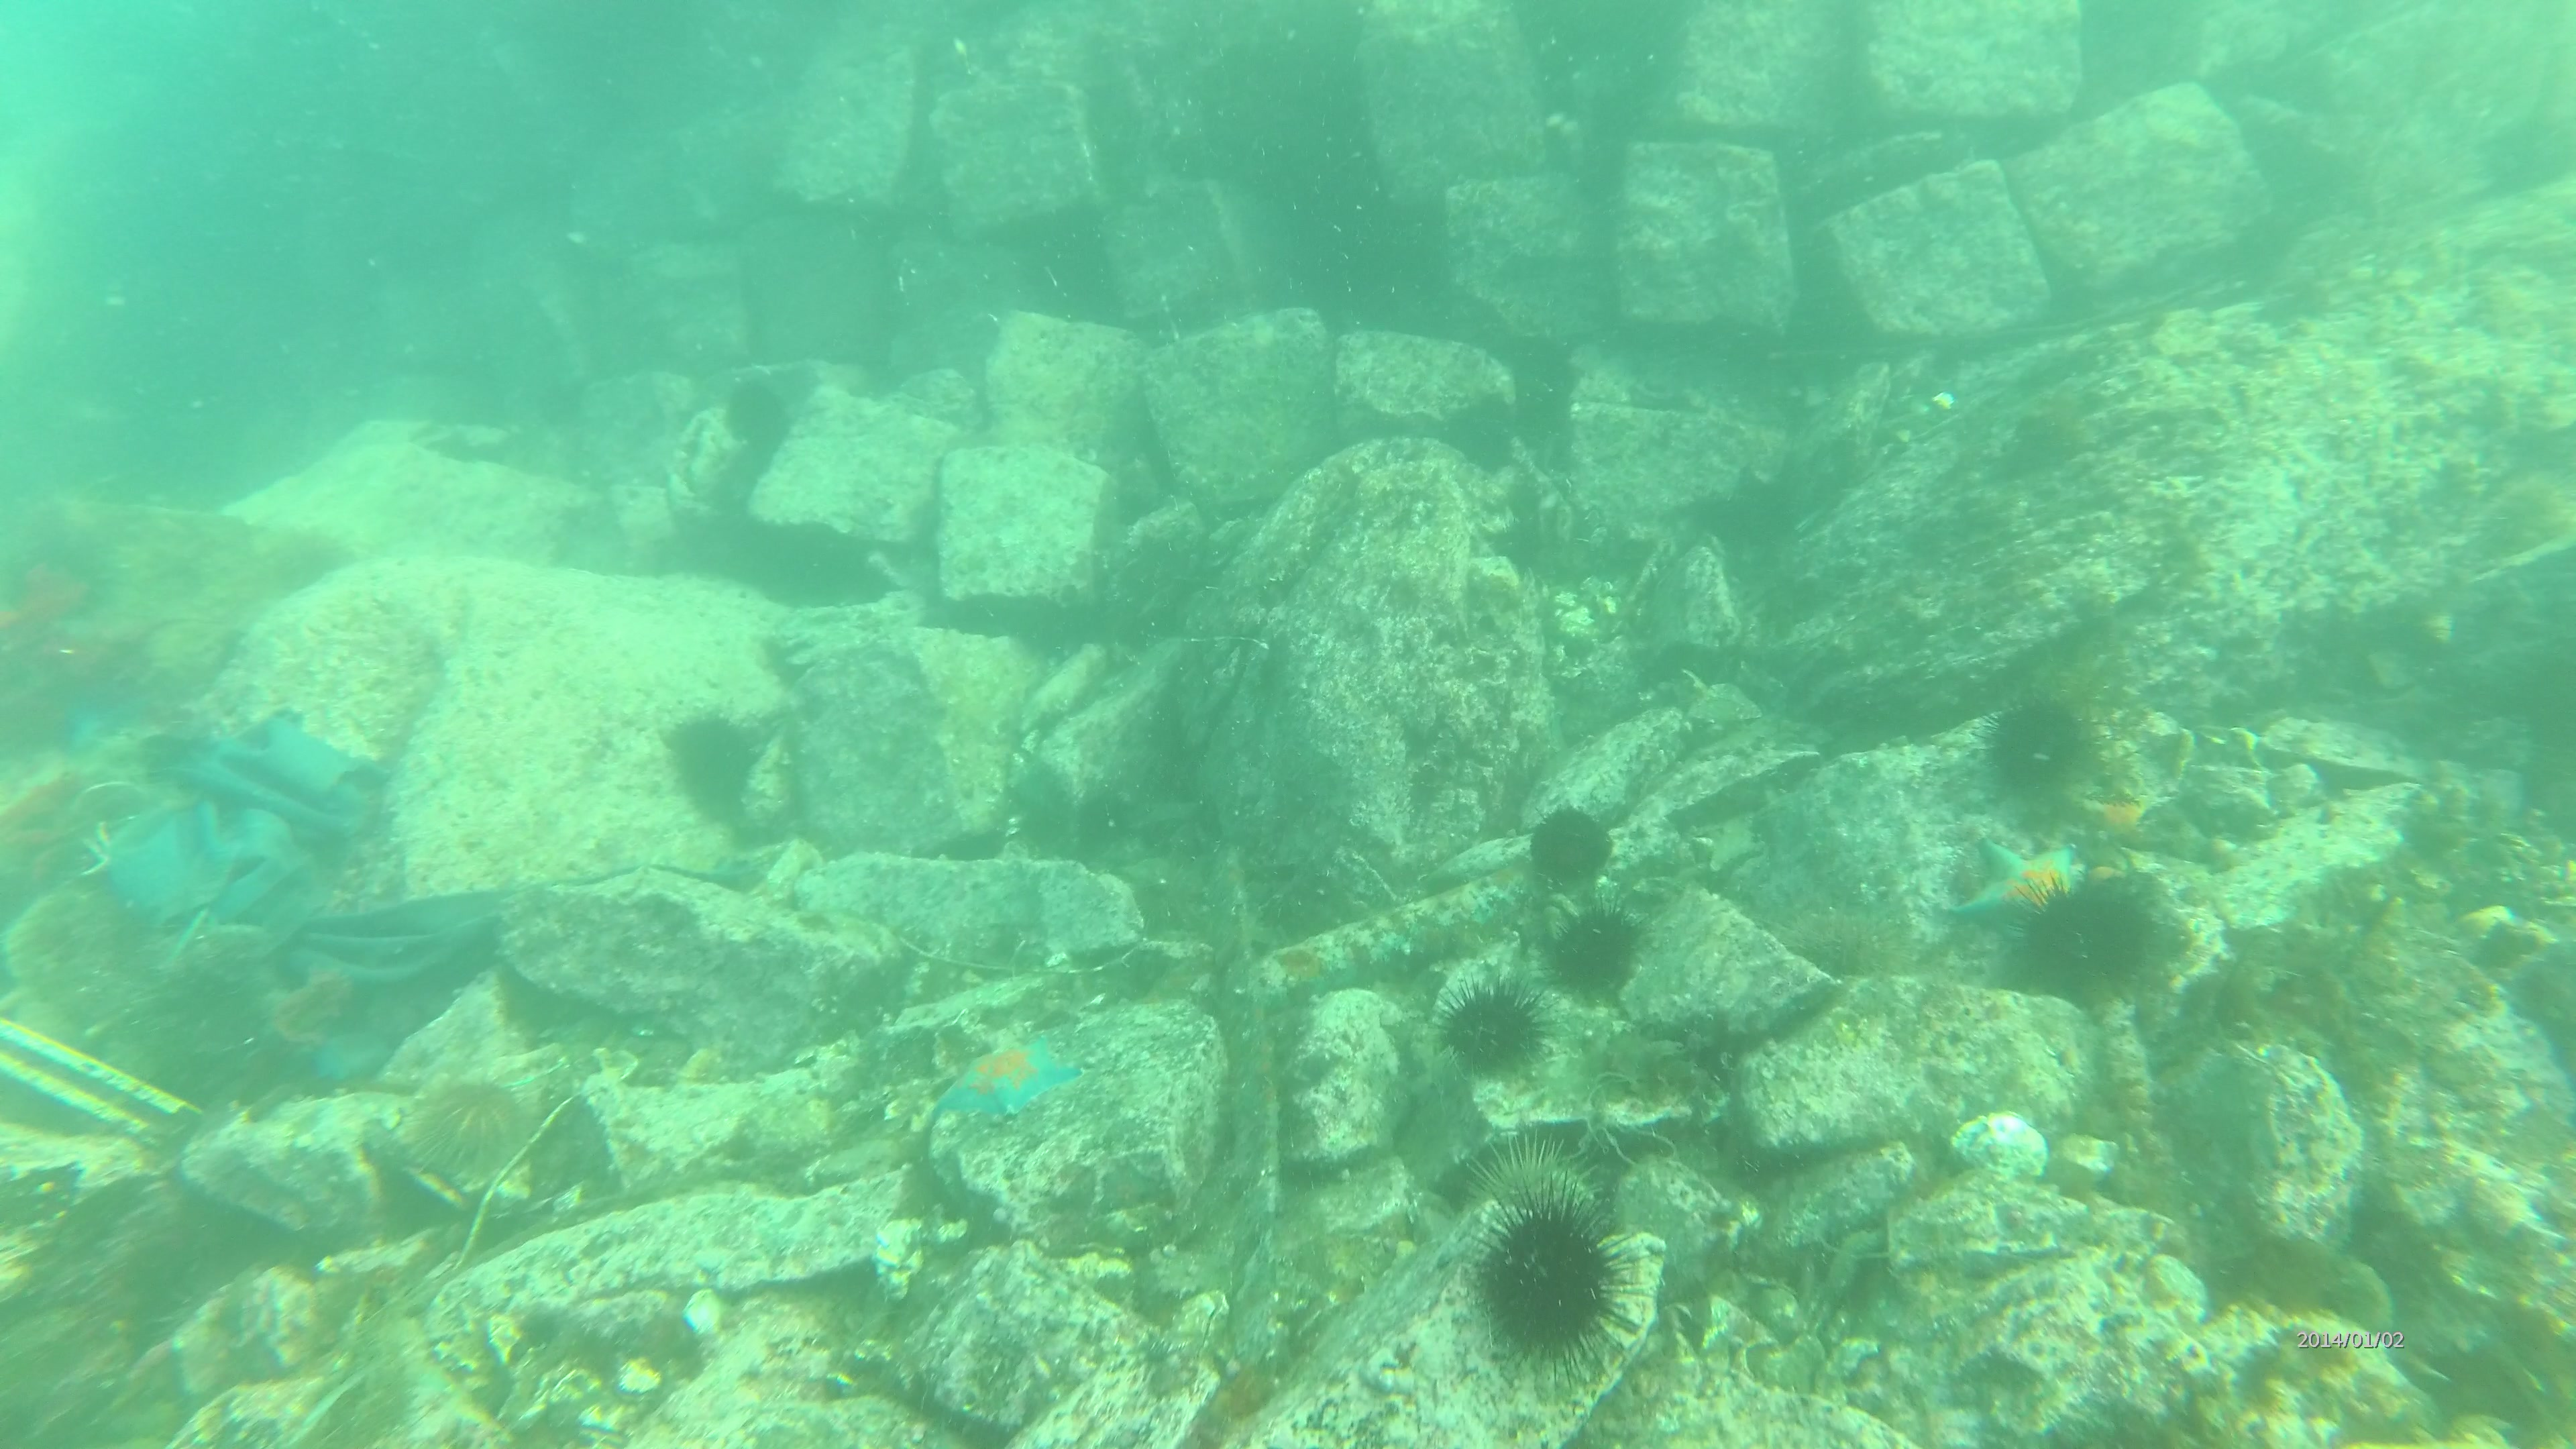echinus: (1449, 1196, 1654, 1376), (1449, 1131, 1615, 1237), (2024, 876, 2164, 996), (1426, 970, 1552, 1083), (398, 1083, 545, 1166), (1982, 690, 2081, 798), (1541, 897, 1652, 989), (1529, 798, 1617, 885)
scallop: (1948, 1102, 2051, 1198)
starfish: (1948, 832, 2095, 941), (939, 1037, 1079, 1122)
